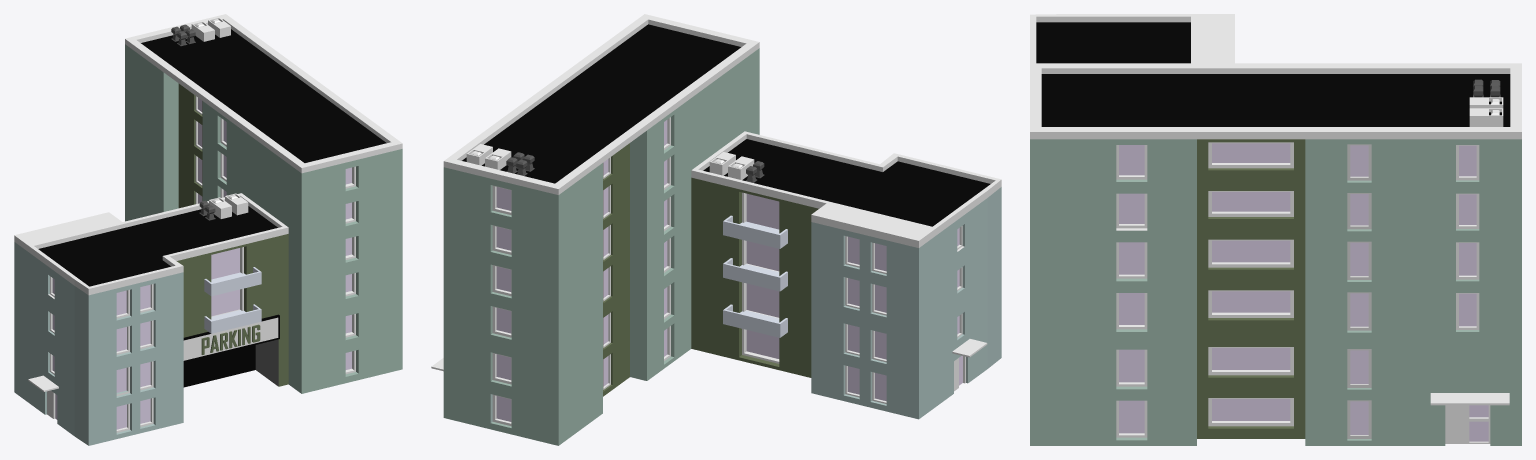
Rendered from parking_garage3.fbx.
3 renders of one model, left to right at view 1: azimuth 30°, elevation 25°; view 2: azimuth 150°, elevation 25°; view 3: azimuth 270°, elevation 25°, orthographic. The views are drawn at different scales.
Parts seen in each view (by area): view 1: Cube.003; view 2: Cube.003; view 3: Cube.003.
Boxes of the visible parts, x1,y1,x2,y2 form: Cube.003: (14,14,402,445); Cube.003: (431,14,1001,445); Cube.003: (1030,14,1521,445).
Size of the model in its own units: 6964 by 4495 by 6174.
